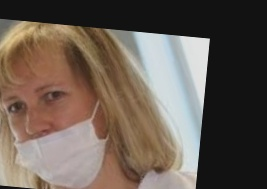mask_weared_incorrect: (1, 27, 107, 187)
